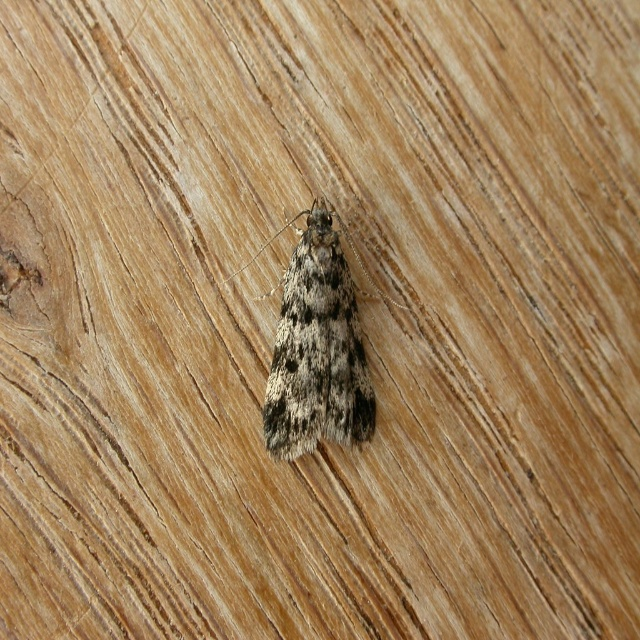Moths and butterflies: (220, 195, 415, 460)
